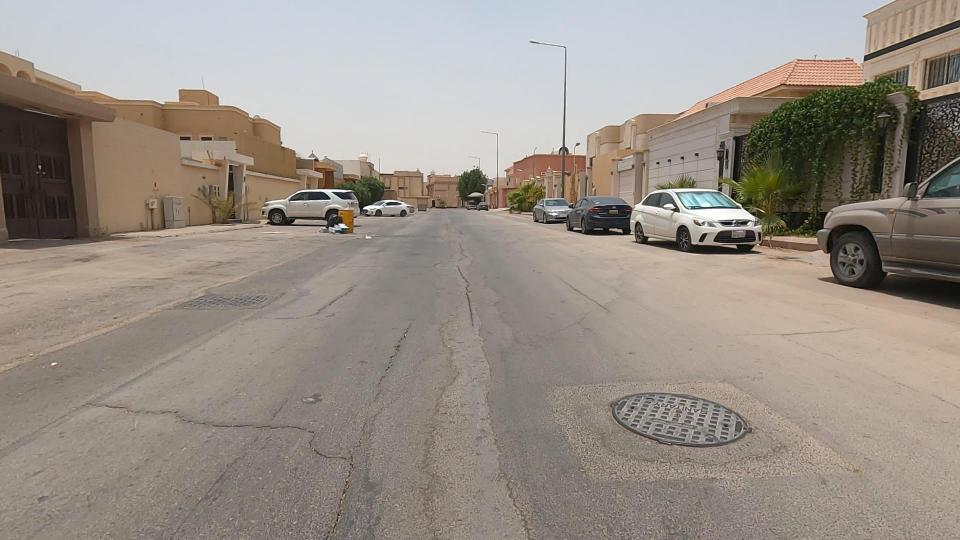GARBAGE: (292, 205, 371, 256), (347, 216, 389, 253)
